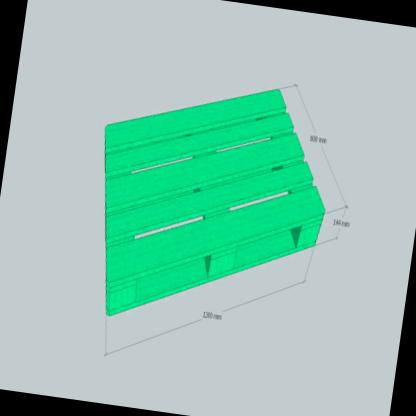BoxFace: (101, 81, 327, 323)
